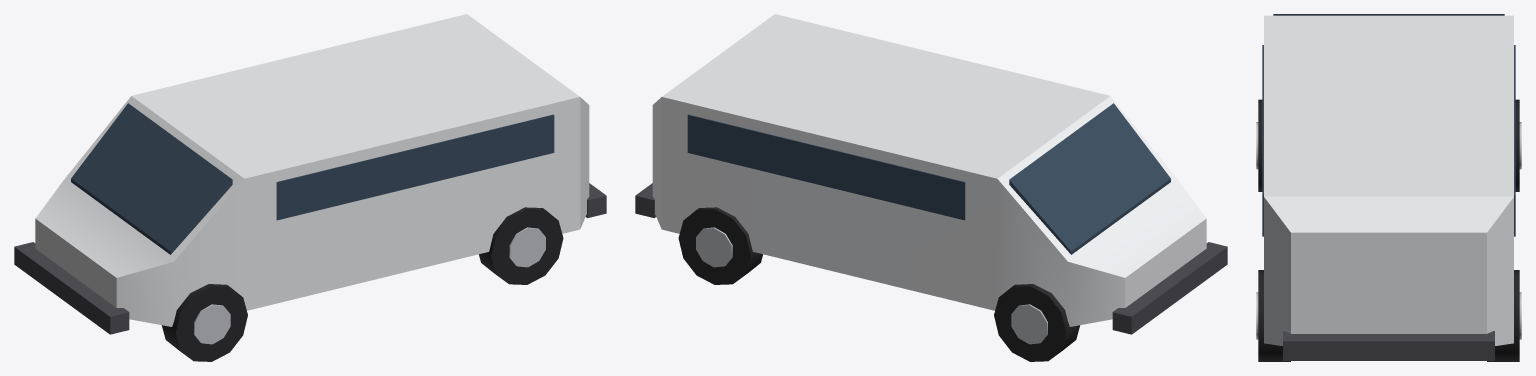
The model's file is car_van_white.fbx.
3 views of the same model, side by side, from view 1: azimuth 30°, elevation 25°; view 2: azimuth 150°, elevation 25°; view 3: azimuth 270°, elevation 25° (orthographic). The views are drawn at different scales.
Parts seen in each view (by area): view 1: Body, Wheel_FR, Wheel_RR; view 2: Body, Wheel_FL, Wheel_RL; view 3: Body, Wheel_RL, Wheel_RR, Wheel_FL, Wheel_FR.
Part boxes in pixels (x1,y1,x2,y2): Body: [14, 14, 606, 334]; Wheel_FR: [162, 284, 247, 361]; Wheel_RR: [479, 207, 563, 284]; Body: [635, 14, 1227, 334]; Wheel_FL: [994, 284, 1079, 361]; Wheel_RL: [678, 207, 762, 284]; Body: [1262, 14, 1515, 360]; Wheel_RL: [1487, 270, 1521, 361]; Wheel_RR: [1256, 270, 1290, 361]; Wheel_FL: [1515, 99, 1521, 191]; Wheel_FR: [1256, 99, 1262, 191].
Size of the model in its own units: 4.66 by 1.55 by 1.95.
